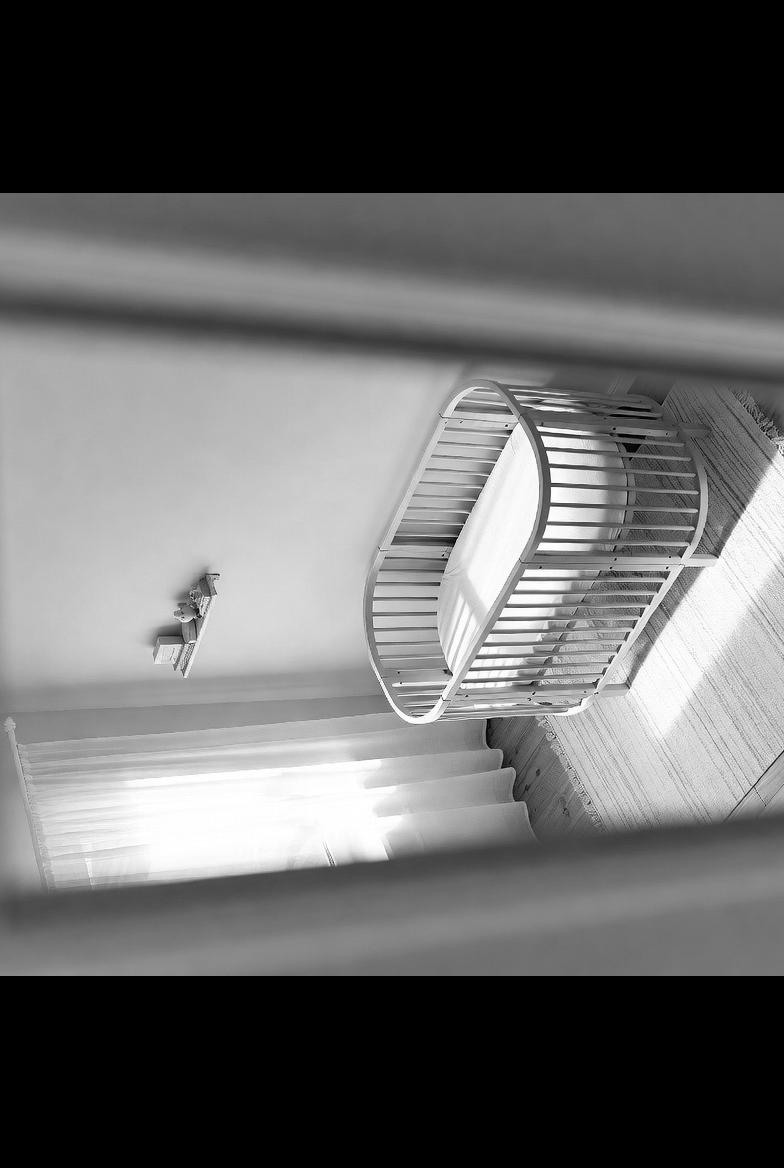crib: (364, 379, 716, 722)
